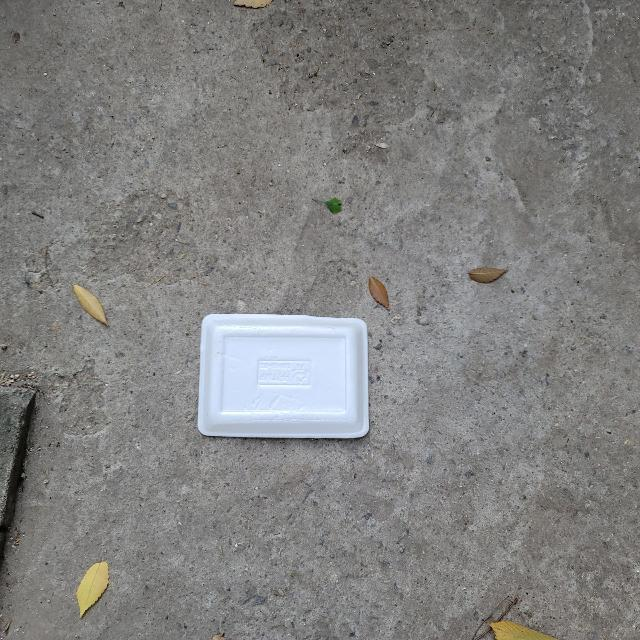Plastico descartable: (197, 314, 371, 442)
